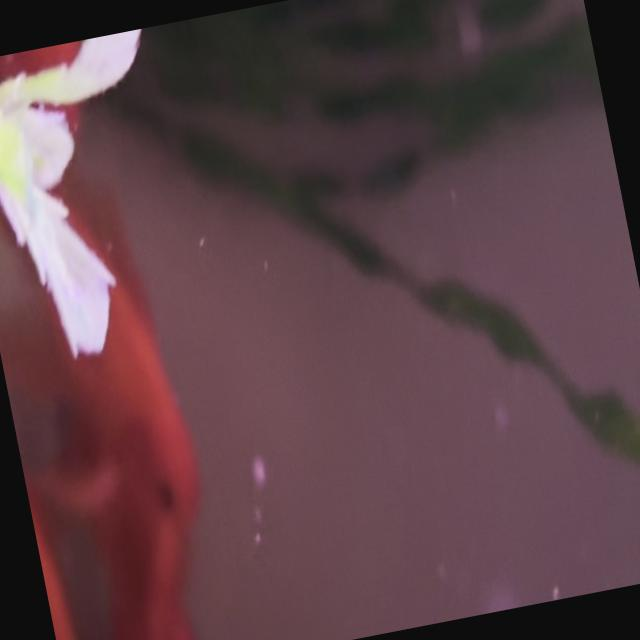fish: (0, 163, 237, 640), (50, 583, 203, 640)
